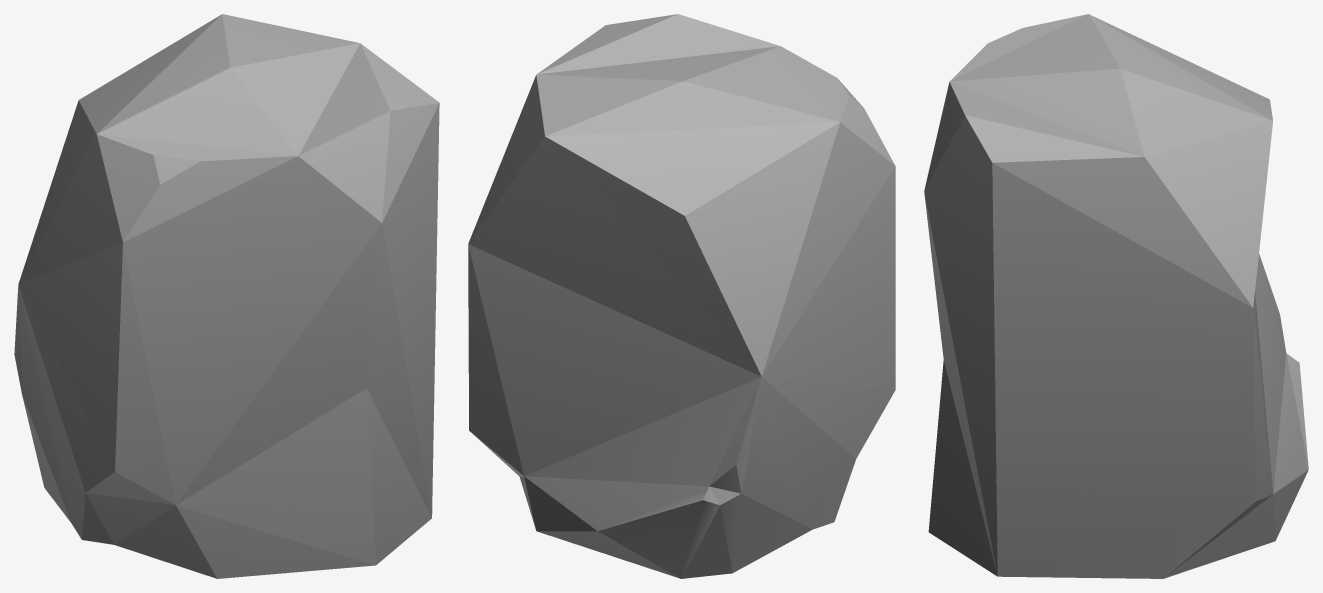
Rendered from stone-small-2.glb.
3 renders of one model, left to right at view 1: azimuth 30°, elevation 25°; view 2: azimuth 150°, elevation 25°; view 3: azimuth 270°, elevation 25°, orthographic. The views are drawn at different scales.
Parts seen in each view (by area): view 1: stone small 2; view 2: stone small 2; view 3: stone small 2.
Boxes of the visible parts, x1,y1,x2,y2 form: stone small 2: (14, 14, 439, 578); stone small 2: (468, 14, 895, 578); stone small 2: (924, 14, 1308, 578).
Bounding box in the file's own units: 1.06 × 1.37 × 1.08.
Materials: 1 (1 with a texture image).
